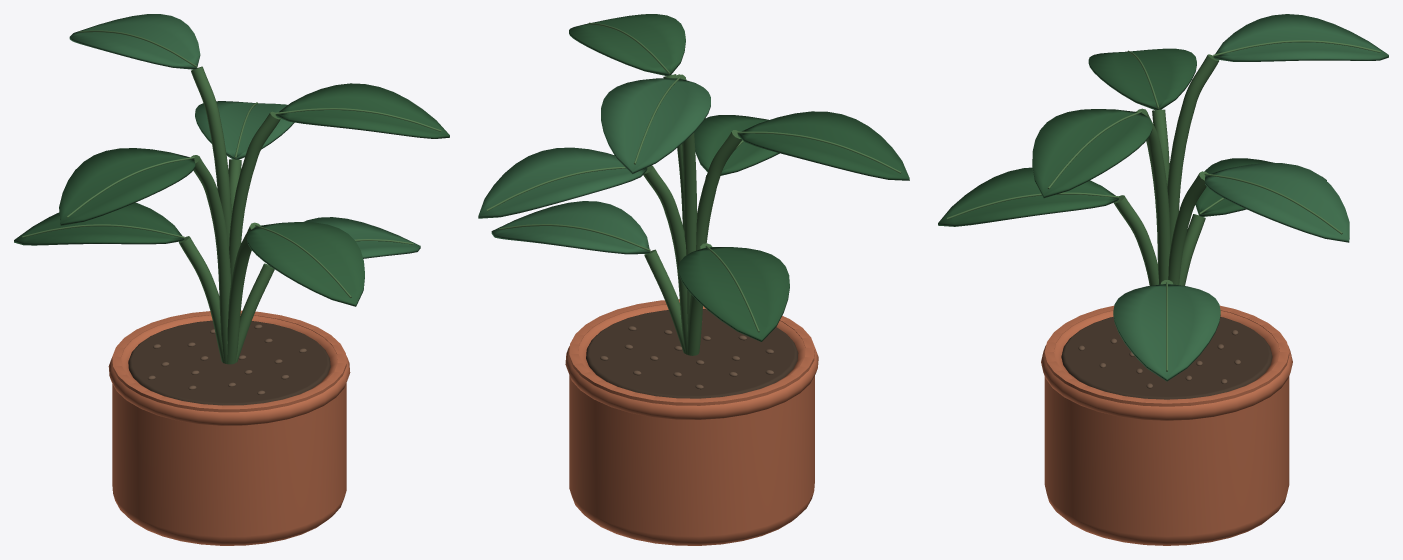
The model's file is plantE.glb.
3 views of the same model, side by side, from view 1: azimuth 30°, elevation 25°; view 2: azimuth 150°, elevation 25°; view 3: azimuth 270°, elevation 25° (orthographic). The views are drawn at different scales.
Visible parts, largest first — view 1: Ceramic planter, Soil, Leaf blade 3, Leaf blade 5, Leaf blade 6, Pot rim, Leaf blade 7, Leaf blade 2, Leaf blade 4, Stem.004, Stem.006, Stem.005 (+4 smaller); view 2: Ceramic planter, Soil, Leaf blade 7, Leaf blade 2, Leaf blade 5, Leaf blade 4, Leaf blade 1, Pot rim, Leaf blade 6, Leaf blade 3, Stem.003, Stem.004 (+3 smaller); view 3: Ceramic planter, Soil, Leaf blade 1, Leaf blade 6, Leaf blade 4, Leaf blade 7, Pot rim, Leaf blade 3, Leaf blade 5, Stem.006, Stem.005, Stem.003 (+4 smaller).
Part boxes in pixels (x1=…): Ceramic planter: x1=112, y1=310, x2=346, y2=545; Soil: x1=128, y1=320, x2=330, y2=405; Leaf blade 3: x1=247, y1=222, x2=364, y2=306; Leaf blade 5: x1=59, y1=148, x2=195, y2=225; Leaf blade 6: x1=275, y1=83, x2=449, y2=138; Pot rim: x1=108, y1=315, x2=350, y2=425; Leaf blade 7: x1=69, y1=14, x2=200, y2=69; Leaf blade 2: x1=14, y1=202, x2=184, y2=245; Leaf blade 4: x1=195, y1=101, x2=294, y2=159; Stem.004: x1=191, y1=155, x2=230, y2=363; Stem.006: x1=191, y1=66, x2=231, y2=247; Stem.005: x1=229, y1=111, x2=280, y2=282; Ceramic planter: x1=569, y1=299, x2=814, y2=545; Soil: x1=586, y1=309, x2=798, y2=398; Leaf blade 7: x1=601, y1=78, x2=710, y2=173; Leaf blade 2: x1=678, y1=247, x2=789, y2=341; Leaf blade 5: x1=737, y1=111, x2=909, y2=180; Leaf blade 4: x1=478, y1=147, x2=647, y2=218; Leaf blade 1: x1=491, y1=201, x2=649, y2=254; Pot rim: x1=565, y1=304, x2=818, y2=419; Leaf blade 6: x1=569, y1=14, x2=685, y2=75; Leaf blade 3: x1=694, y1=115, x2=779, y2=175; Stem.003: x1=643, y1=165, x2=687, y2=354; Stem.004: x1=696, y1=130, x2=741, y2=352; Ceramic planter: x1=1044, y1=305, x2=1289, y2=545; Soil: x1=1061, y1=316, x2=1272, y2=399; Leaf blade 1: x1=1113, y1=284, x2=1220, y2=381; Leaf blade 6: x1=1032, y1=109, x2=1152, y2=198; Leaf blade 4: x1=1205, y1=163, x2=1349, y2=242; Leaf blade 7: x1=1213, y1=14, x2=1388, y2=61; Pot rim: x1=1041, y1=311, x2=1292, y2=420; Leaf blade 3: x1=938, y1=167, x2=1118, y2=226; Leaf blade 5: x1=1088, y1=48, x2=1196, y2=109; Stem.006: x1=1167, y1=54, x2=1219, y2=245; Stem.005: x1=1136, y1=108, x2=1170, y2=284; Stem.003: x1=1168, y1=171, x2=1207, y2=284.
Size of the model in its own units: 1.23 by 1.34 by 1.22.
